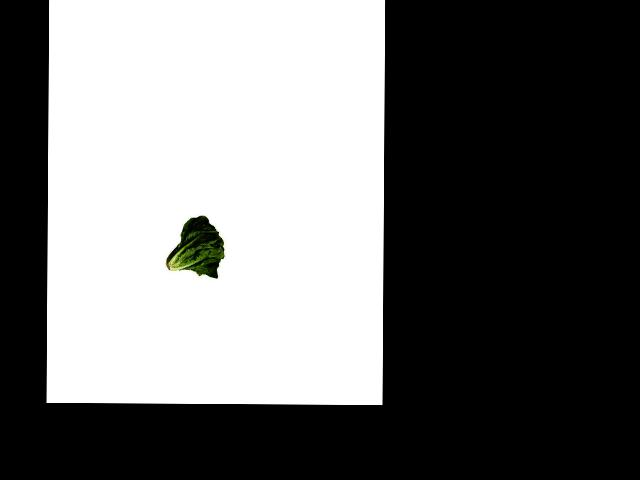lettuce: (162, 214, 226, 279)
